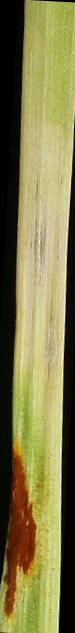Wheat: (4, 434, 51, 627)
